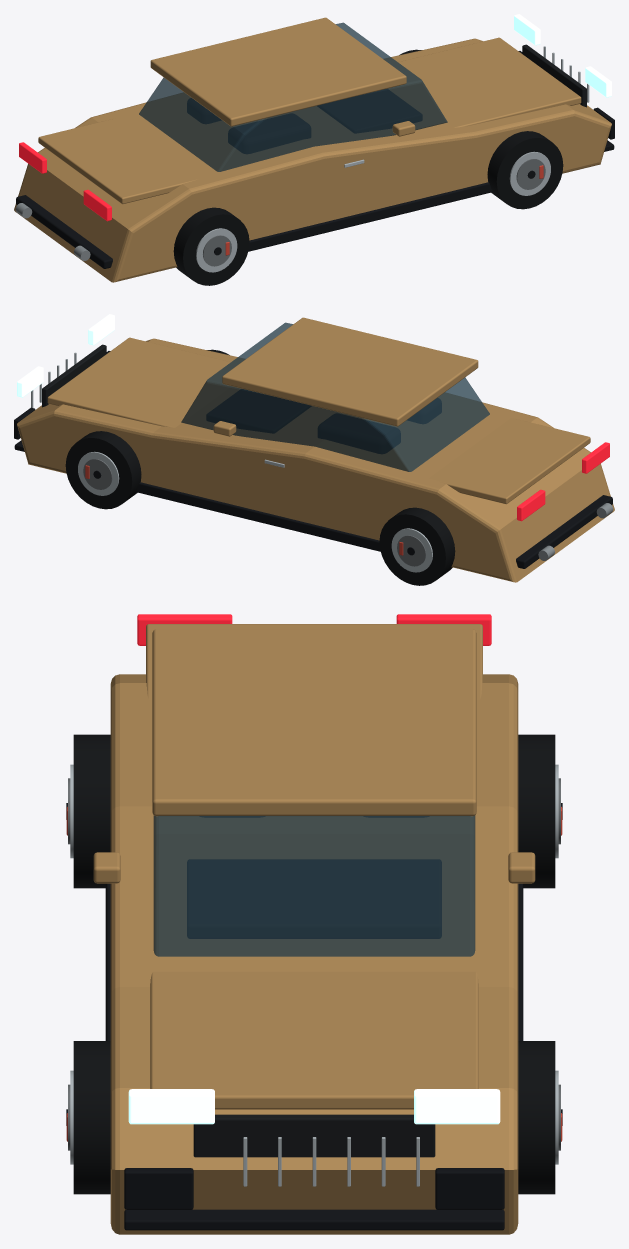
File: rr_spectre_series_ii.glb
3 views of the same model, one above another, from view 1: azimuth 30°, elevation 25°; view 2: azimuth 150°, elevation 25°; view 3: azimuth 270°, elevation 25° (orthographic). The views are drawn at different scales.
Parts seen in each view (by area): view 1: sculpted_body, roof, glasshouse, hood_center, rear_deck, rear_right_wheel_tire, front_right_wheel_tire, side_skirt_1, dashboard, seat_1, rear_diffuser, front_grille (+9 smaller); view 2: sculpted_body, roof, glasshouse, hood_center, rear_deck, rear_left_wheel_tire, front_left_wheel_tire, side_skirt_-1, dashboard, seat_-1, rear_diffuser, front_grille (+9 smaller); view 3: sculpted_body, roof, glasshouse, hood_center, dashboard, front_grille, front_splitter, front_left_wheel_tire, front_right_wheel_tire, rear_left_wheel_tire, rear_right_wheel_tire, headlight_left (+10 smaller).
Part boxes in pixels (bbox=[...]): sculpted_body: bbox=[14, 38, 611, 282]; roof: bbox=[150, 17, 406, 126]; glasshouse: bbox=[139, 22, 447, 171]; hood_center: bbox=[391, 37, 581, 127]; rear_deck: bbox=[38, 118, 200, 204]; rear_right_wheel_tire: bbox=[173, 207, 249, 285]; front_right_wheel_tire: bbox=[487, 131, 563, 209]; side_skirt_1: bbox=[248, 182, 492, 251]; dashboard: bbox=[318, 89, 421, 132]; seat_1: bbox=[228, 114, 310, 153]; rear_diffuser: bbox=[16, 195, 112, 268]; front_grille: bbox=[522, 44, 586, 107]; sculpted_body: bbox=[17, 338, 614, 582]; roof: bbox=[222, 317, 478, 426]; glasshouse: bbox=[181, 322, 489, 471]; hood_center: bbox=[47, 337, 237, 427]; rear_deck: bbox=[428, 418, 590, 504]; rear_left_wheel_tire: bbox=[379, 507, 455, 585]; front_left_wheel_tire: bbox=[65, 431, 141, 509]; side_skirt_-1: bbox=[136, 482, 380, 551]; dashboard: bbox=[207, 389, 310, 432]; seat_-1: bbox=[318, 414, 400, 453]; rear_diffuser: bbox=[516, 495, 612, 568]; front_grille: bbox=[42, 344, 106, 407]; sculpted_body: bbox=[110, 674, 518, 1234]; roof: bbox=[152, 629, 476, 816]; glasshouse: bbox=[153, 815, 475, 956]; hood_center: bbox=[150, 971, 478, 1109]; dashboard: bbox=[187, 860, 441, 938]; front_grille: bbox=[193, 1114, 435, 1157]; front_splitter: bbox=[124, 1209, 504, 1230]; front_left_wheel_tire: bbox=[518, 1041, 555, 1194]; front_right_wheel_tire: bbox=[73, 1041, 110, 1194]; rear_left_wheel_tire: bbox=[518, 734, 555, 888]; rear_right_wheel_tire: bbox=[73, 734, 110, 888]; headlight_left: bbox=[414, 1089, 500, 1124].
Bounding box in the file's own units: 5.82 × 1.52 × 2.39.
